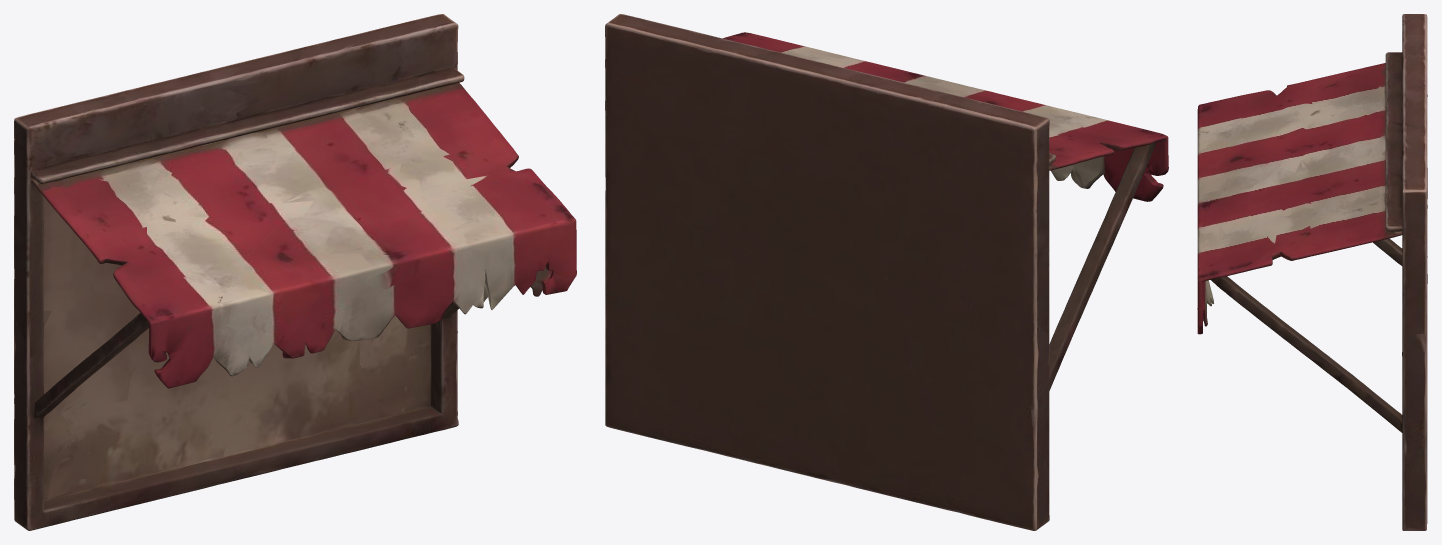
File: awning_striped_b_idle.glb
3 views of the same model, side by side, from view 1: azimuth 30°, elevation 25°; view 2: azimuth 150°, elevation 25°; view 3: azimuth 270°, elevation 25° (orthographic). The views are drawn at different scales.
Visible parts, largest first — view 1: tripo_node_3fe7feca-2db4-46f8-b248-5f752aacf7f7; view 2: tripo_node_3fe7feca-2db4-46f8-b248-5f752aacf7f7; view 3: tripo_node_3fe7feca-2db4-46f8-b248-5f752aacf7f7.
Boxes of the visible parts, bbox=[...] form: tripo_node_3fe7feca-2db4-46f8-b248-5f752aacf7f7: bbox=[14, 14, 576, 530]; tripo_node_3fe7feca-2db4-46f8-b248-5f752aacf7f7: bbox=[605, 14, 1168, 530]; tripo_node_3fe7feca-2db4-46f8-b248-5f752aacf7f7: bbox=[1197, 14, 1427, 530].
Bounding box in the file's own units: 2.79 × 2.5 × 1.53.
Materials: 1 (1 with a texture image).
